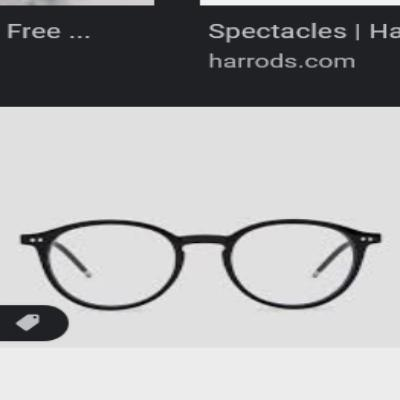glasses: (19, 212, 387, 316)
